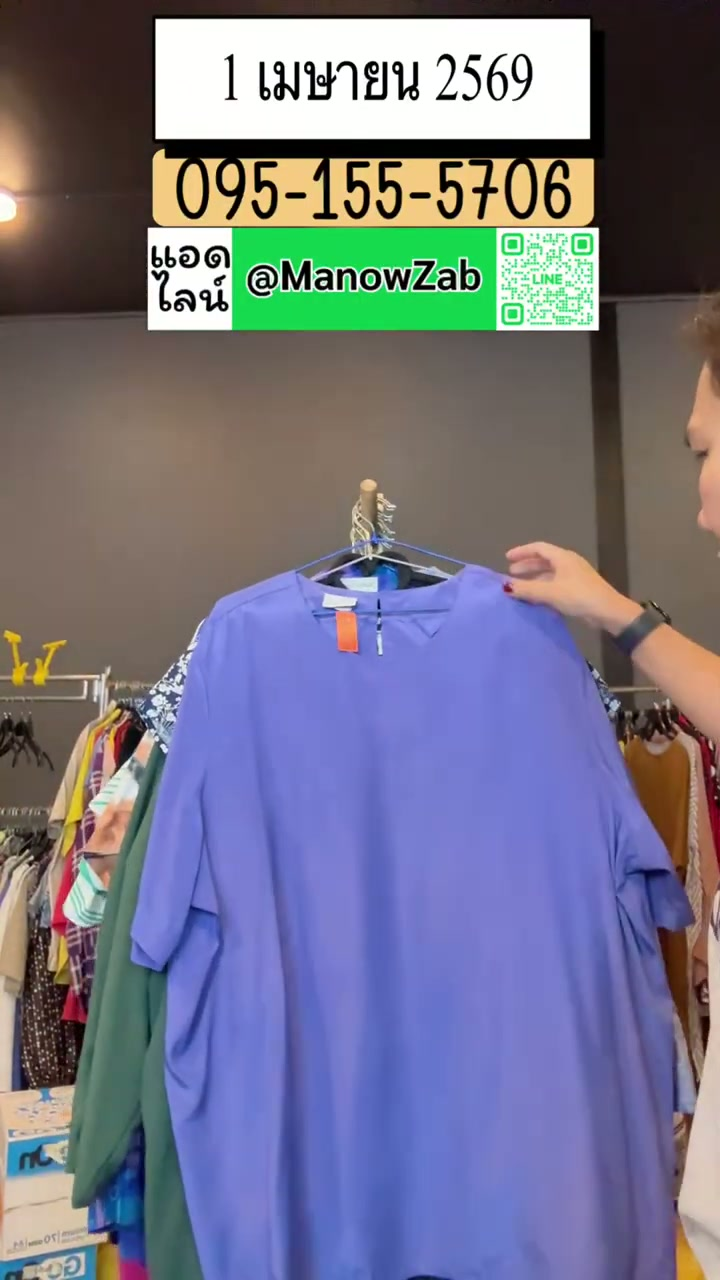display_shirt: (131, 565, 688, 1279), (132, 565, 688, 1279)
